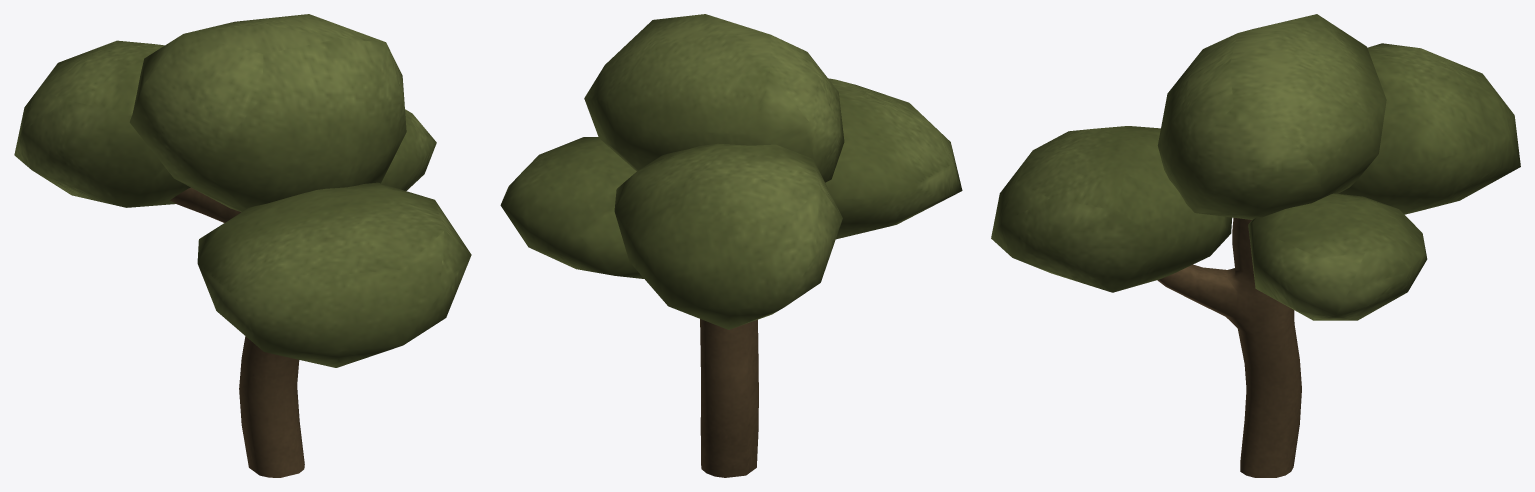
File: Trees_02.fbx
3 renders of one model, left to right at view 1: azimuth 30°, elevation 25°; view 2: azimuth 150°, elevation 25°; view 3: azimuth 270°, elevation 25°, orthographic. The views are drawn at different scales.
Visible parts, largest first — view 1: Cylinder.001; view 2: Cylinder.001; view 3: Cylinder.001.
Boxes of the visible parts, x1,y1,x2,y2 form: Cylinder.001: [14, 14, 471, 477]; Cylinder.001: [500, 14, 962, 477]; Cylinder.001: [991, 14, 1520, 477].
Size of the model in its own units: 1434 by 1722 by 1925.
